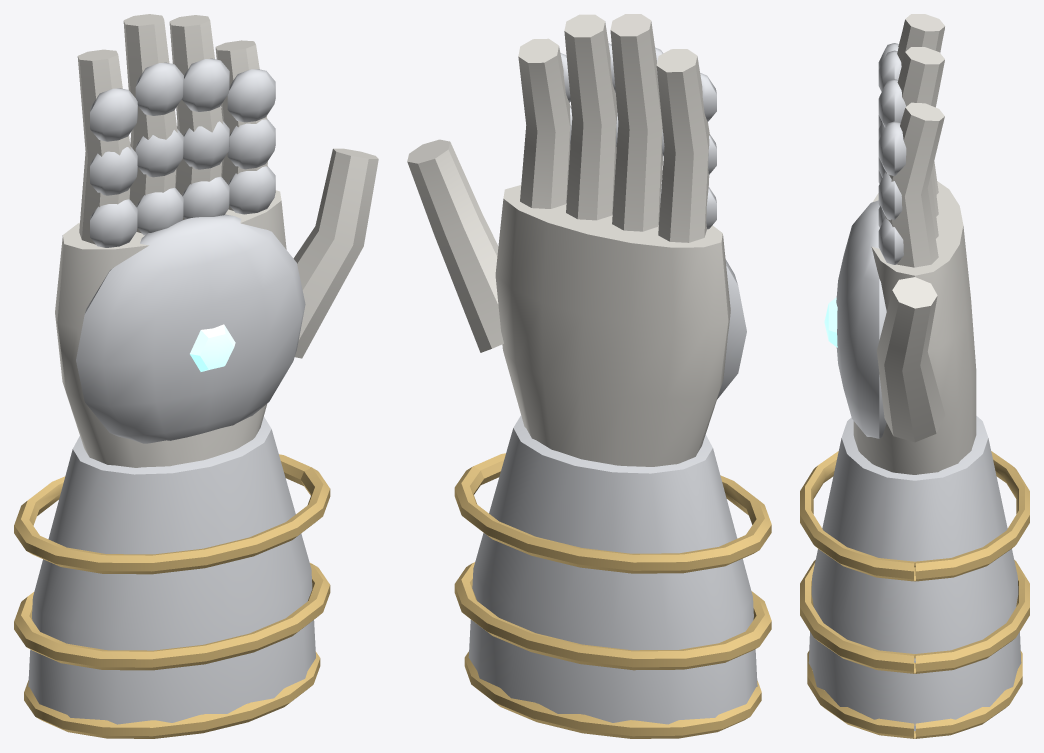
Rendered from guardian_gauntlets.glb.
3 views of the same model, side by side, from view 1: azimuth 30°, elevation 25°; view 2: azimuth 150°, elevation 25°; view 3: azimuth 270°, elevation 25° (orthographic). The views are drawn at different scales.
Visible parts, largest first — view 1: guardian_gauntlets; view 2: guardian_gauntlets; view 3: guardian_gauntlets.
Boxes of the visible parts, box(x1,y1,x2,y2) form: guardian_gauntlets: box(14, 14, 378, 738); guardian_gauntlets: box(407, 14, 771, 738); guardian_gauntlets: box(800, 14, 1029, 738).
Bounding box in the file's own units: 0.1521 × 0.2804 × 0.0902.
